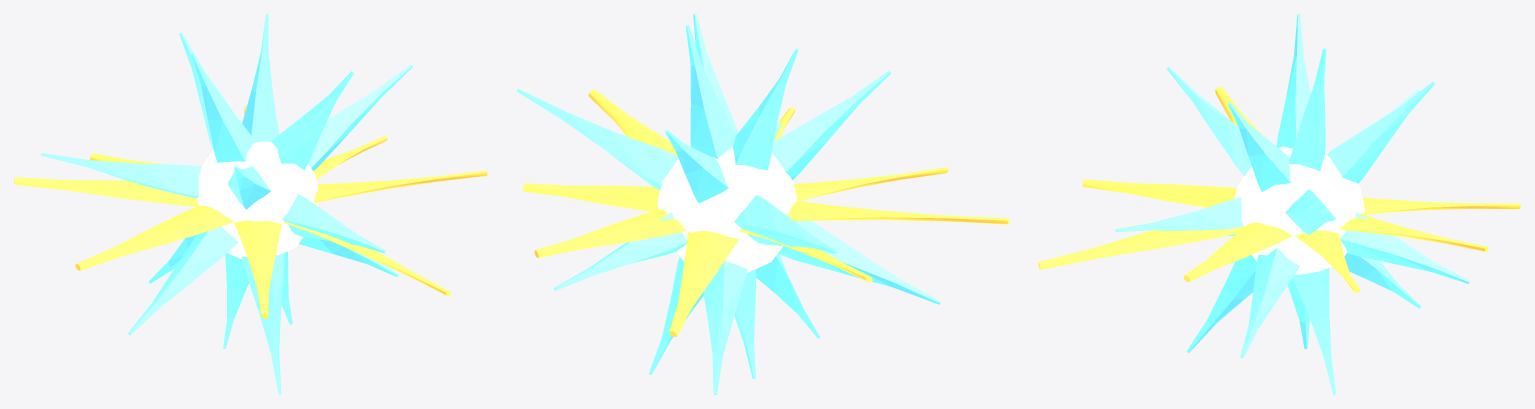
Rendered from fx_burst.glb.
3 views of the same model, side by side, from view 1: azimuth 30°, elevation 25°; view 2: azimuth 150°, elevation 25°; view 3: azimuth 270°, elevation 25° (orthographic). The views are drawn at different scales.
Parts seen in each view (by area): view 1: radial-impact-burst; view 2: radial-impact-burst; view 3: radial-impact-burst.
Boxes of the visible parts, box(x1,y1,x2,y2) form: radial-impact-burst: box(14, 14, 487, 394); radial-impact-burst: box(516, 14, 1009, 394); radial-impact-burst: box(1038, 14, 1520, 394).
Bounding box in the file's own units: 1.07 × 0.824 × 1.09.
